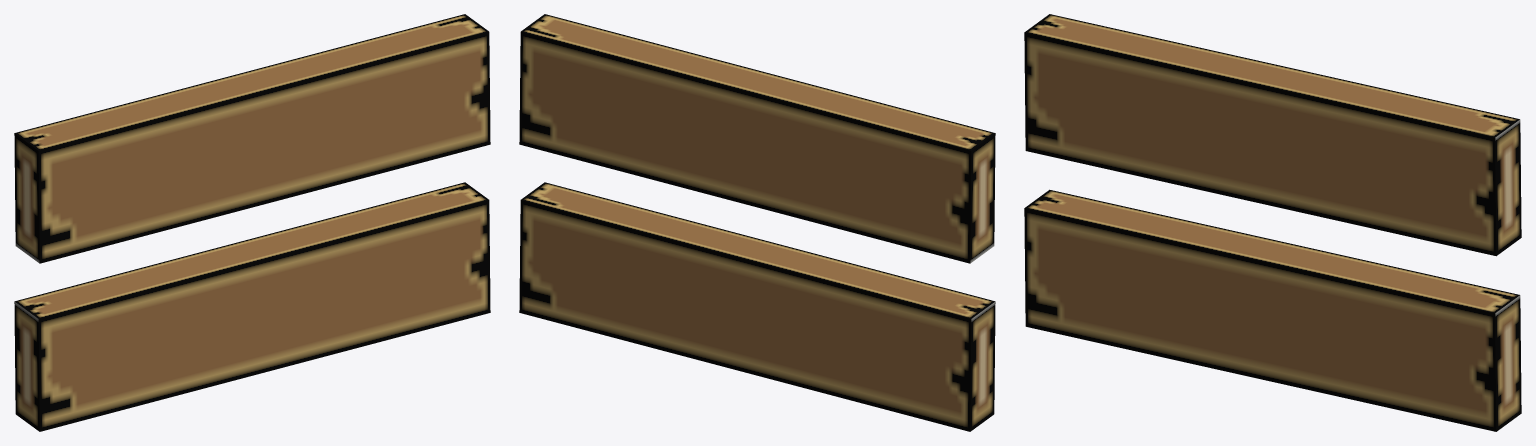
Rendered from deco_woodenFence_short.FBX.
The picture shows the model from 3 angles, left to right: view 1: azimuth 30°, elevation 25°; view 2: azimuth 150°, elevation 25°; view 3: azimuth 330°, elevation 25°; orthographic projection. The views are drawn at different scales.
Parts seen in each view (by area): view 1: deco_woodenFence_short; view 2: deco_woodenFence_short; view 3: deco_woodenFence_short.
Part boxes in pixels (x1,y1,x2,y2): deco_woodenFence_short: (14,14,490,431); deco_woodenFence_short: (519,14,995,431); deco_woodenFence_short: (1024,14,1521,431).
Bounding box in the file's own units: 2.09 × 1.28 × 0.1931.
Materials: 1 (1 with a texture image).
